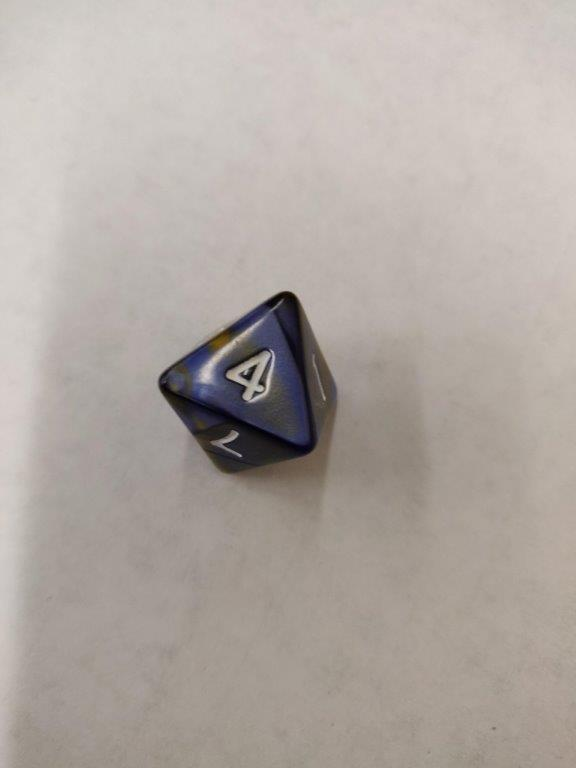d8-4: (157, 290, 339, 474)
